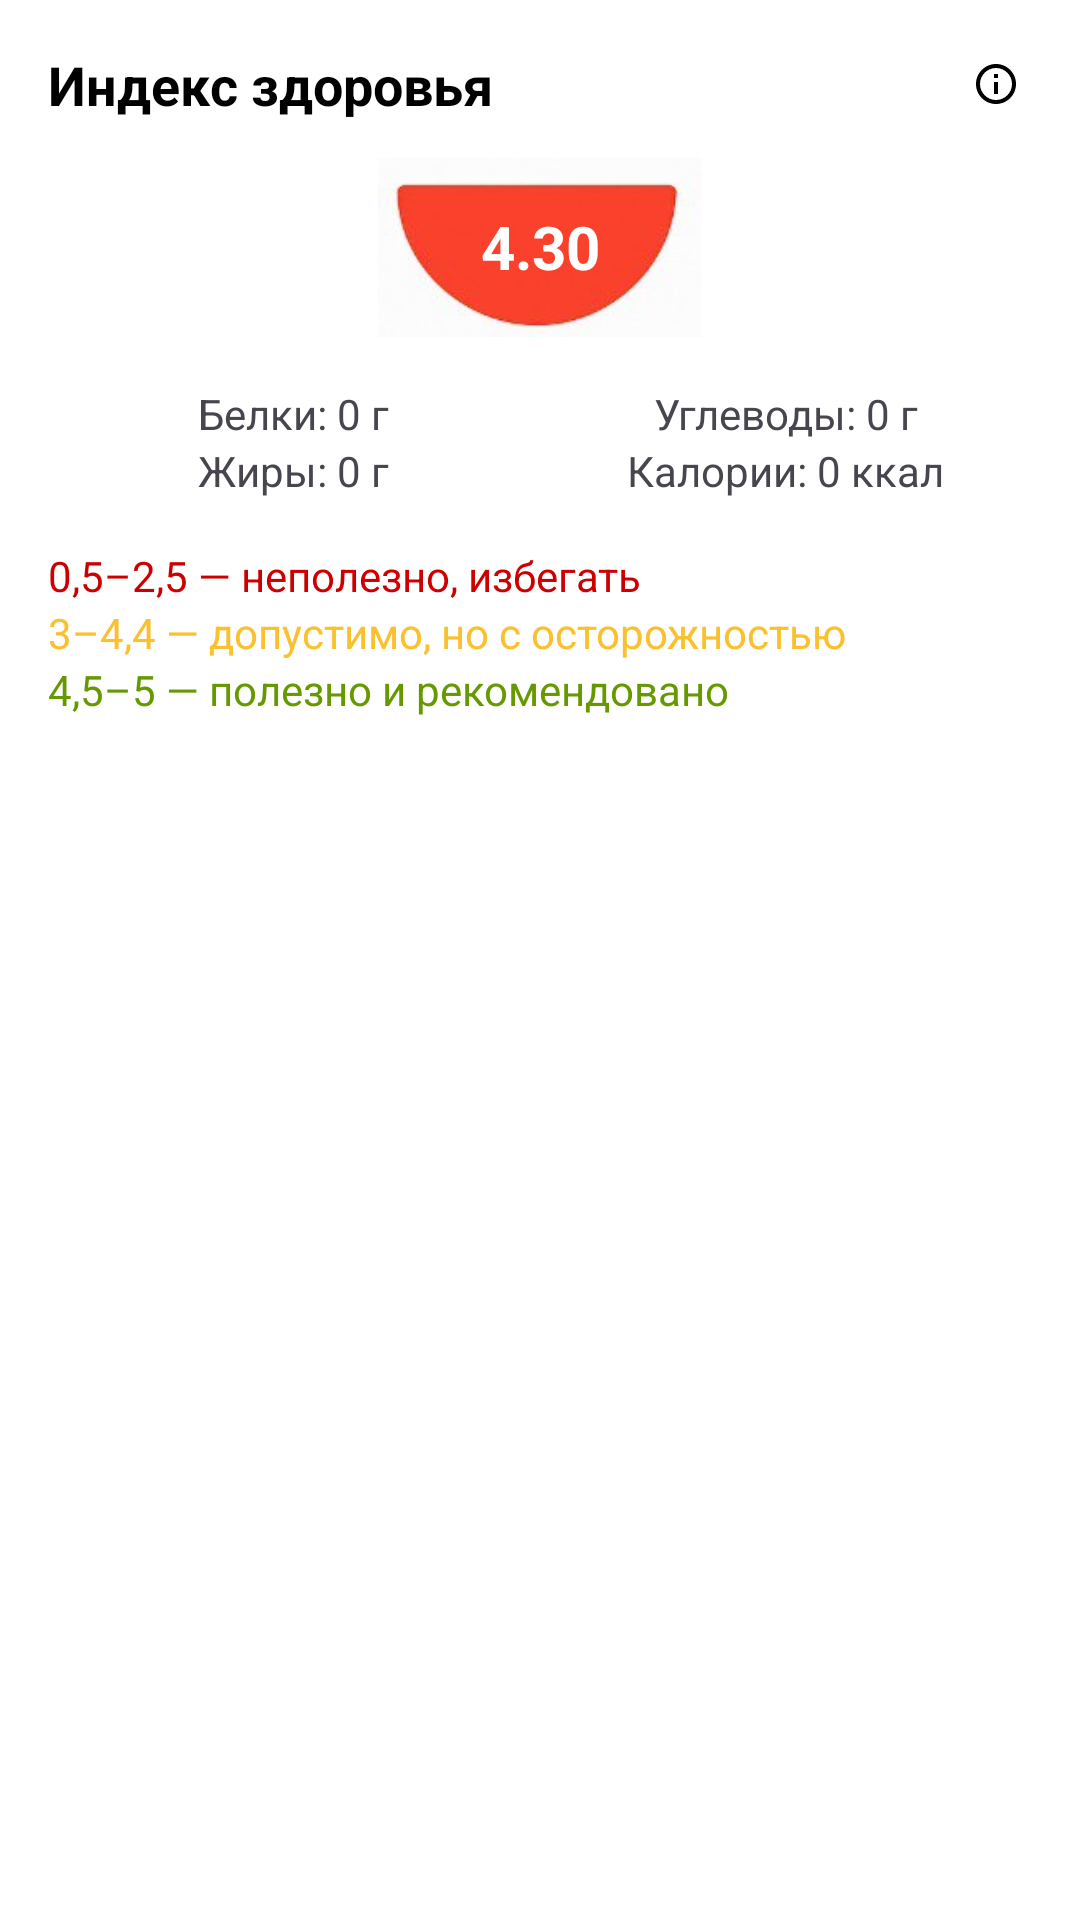

Where to tap for icons on this 1080 × 1920 app screen, as (x=x, y=y):
Инфо: (x=996, y=84)
